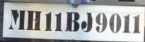character: (8, 9, 26, 31), (25, 9, 41, 31), (64, 11, 80, 32), (80, 11, 93, 33), (94, 12, 107, 33), (108, 12, 121, 33), (131, 14, 141, 34), (43, 11, 52, 32), (54, 11, 63, 32), (122, 13, 131, 33)
